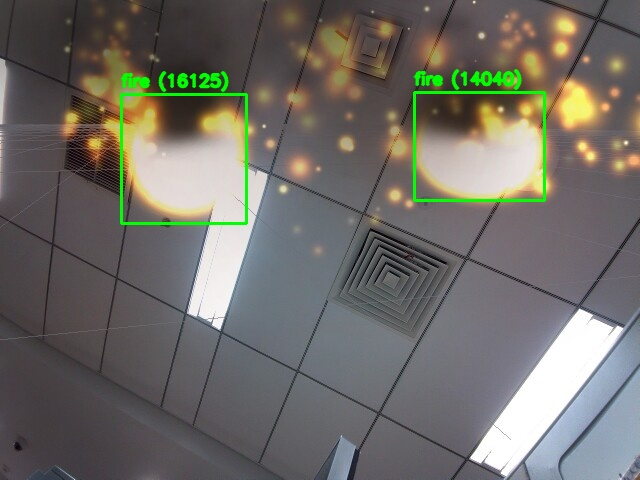fire: (121, 94, 246, 223), (414, 92, 544, 200)
